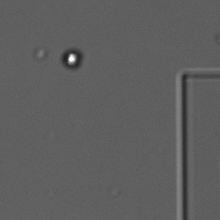Living Cell: (61, 49, 82, 71)
